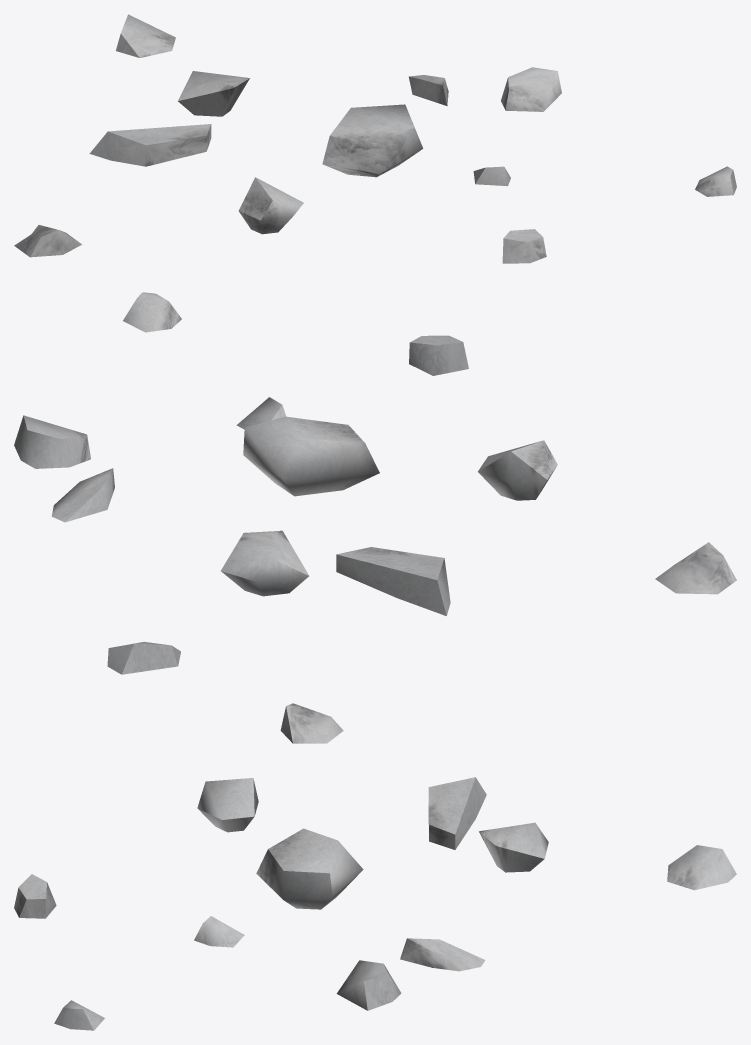
Rendered from snow_d_a06a.fbx.
The picture shows the model from 3 angles, top to bottom: view 1: azimuth 30°, elevation 25°; view 2: azimuth 150°, elevation 25°; view 3: azimuth 270°, elevation 25°; orthographic projection. The views are drawn at different scales.
Visible parts, largest first — view 1: d_a06a; view 2: d_a06a; view 3: d_a06a.
Part boxes in pixels (bbox=[...]): d_a06a: bbox=[14, 14, 736, 263]; d_a06a: bbox=[14, 292, 736, 674]; d_a06a: bbox=[14, 703, 736, 1030].
Size of the model in its own units: 376 by 30.02 by 366.
